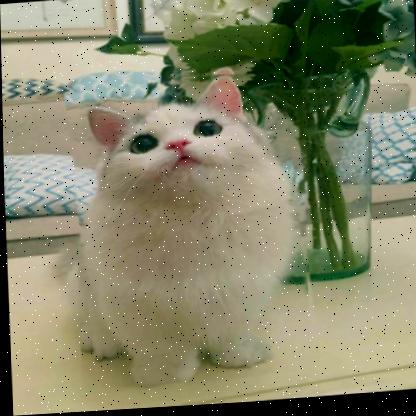cat: (70, 59, 314, 390)
